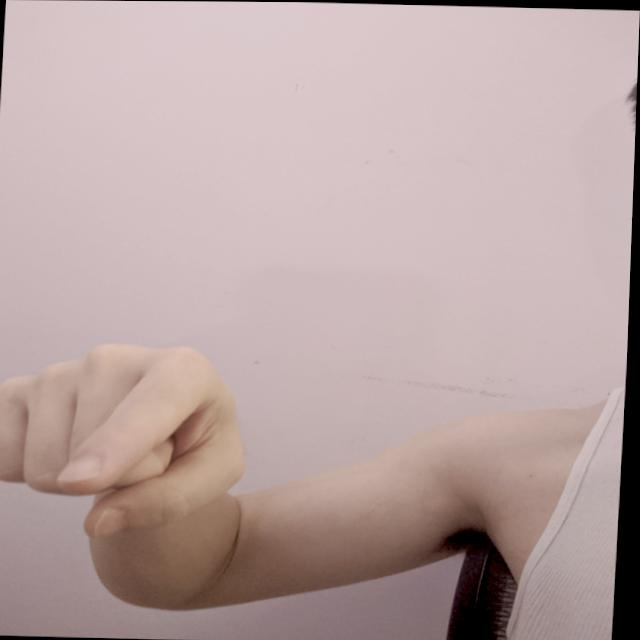Z: (0, 331, 261, 549)
